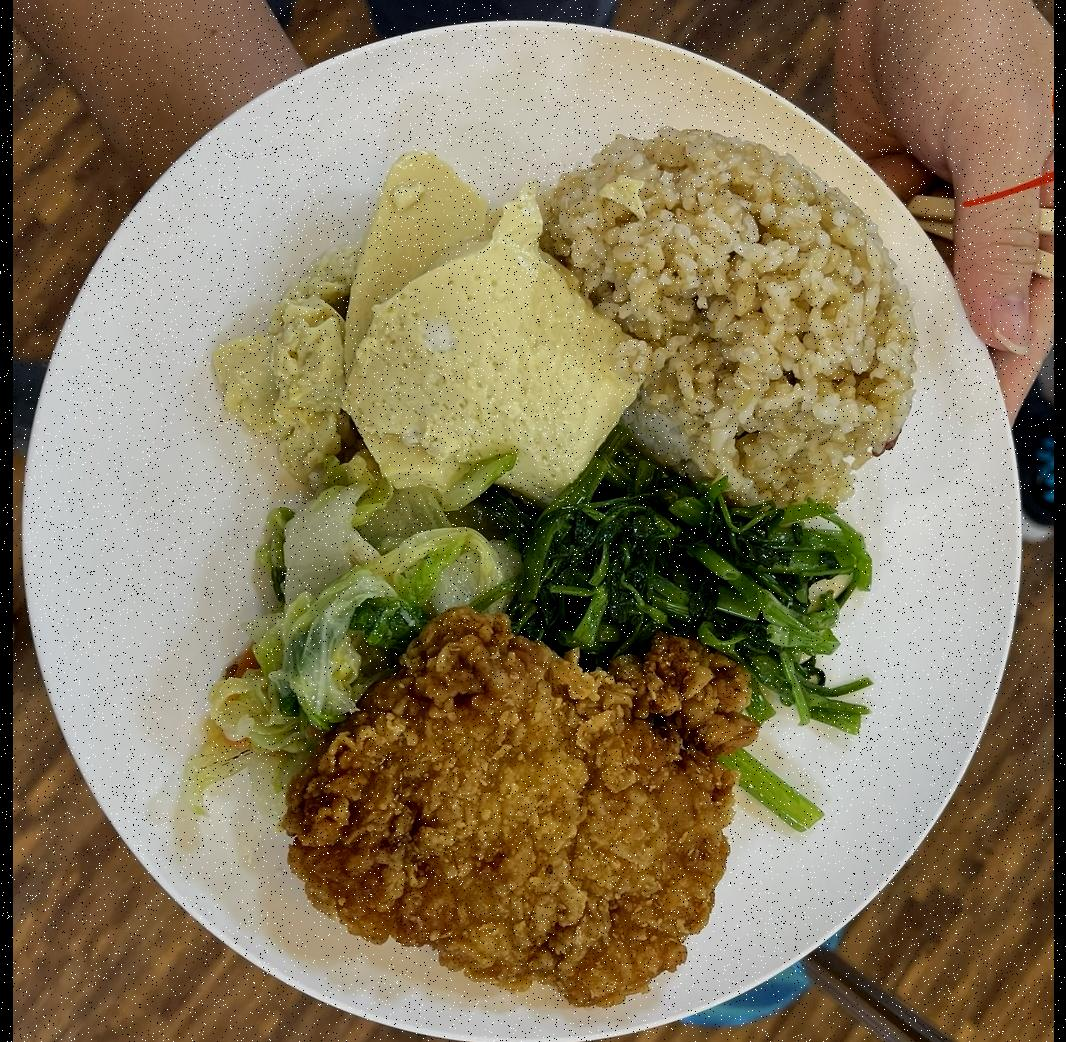brown rice: (539, 118, 931, 486)
kara chicken leg steak: (308, 616, 766, 1018)
plate: (30, 0, 1036, 1036)
side dish: (232, 146, 641, 511), (190, 481, 511, 778), (502, 470, 866, 706)
